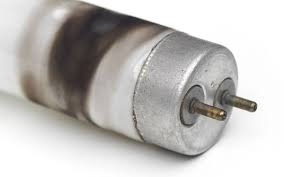glass: (7, 1, 152, 150)
